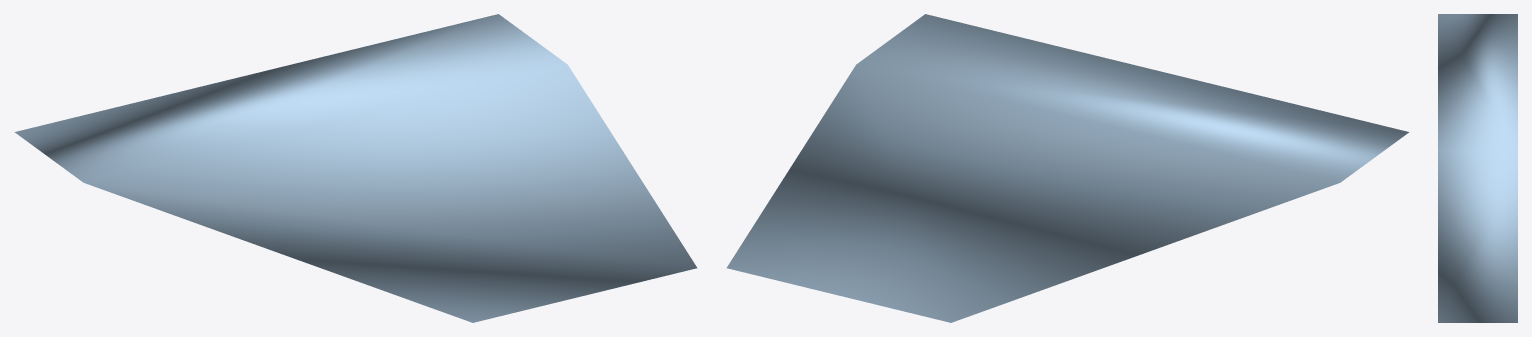
File: quartz-scepter.glb
3 views of the same model, side by side, from view 1: azimuth 30°, elevation 25°; view 2: azimuth 150°, elevation 25°; view 3: azimuth 270°, elevation 25° (orthographic). The views are drawn at different scales.
Parts seen in each view (by area): view 1: quartz-scepter; view 2: quartz-scepter; view 3: quartz-scepter.
Boxes of the visible parts, box(x1,y1,x2,y2) form: quartz-scepter: box(14, 14, 697, 322); quartz-scepter: box(726, 14, 1409, 322); quartz-scepter: box(1438, 14, 1517, 322).
Bounding box in the file's own units: 1.64 × 0.6 × 0.32.
